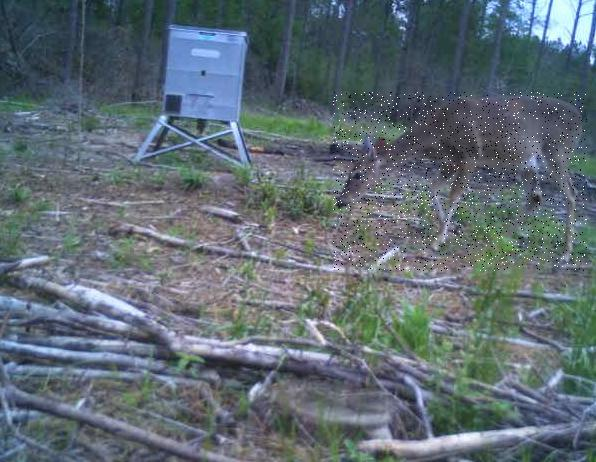Deer: (333, 93, 587, 272)
